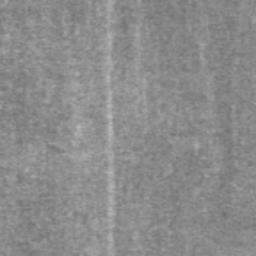Bright scratch: (107, 0, 116, 256)
